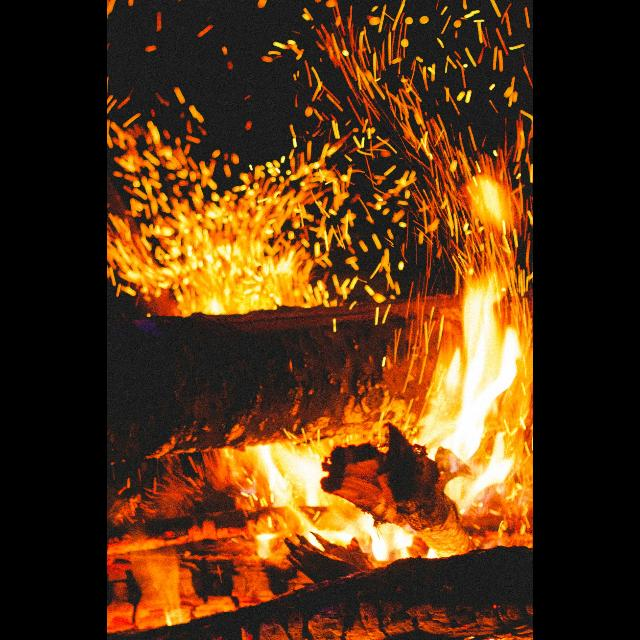fire: (107, 0, 534, 640)
